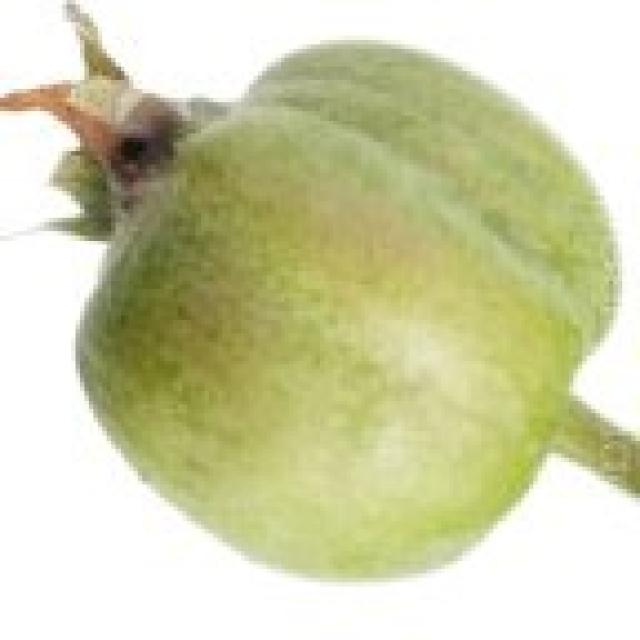20-_ripeness: (0, 21, 640, 580)
